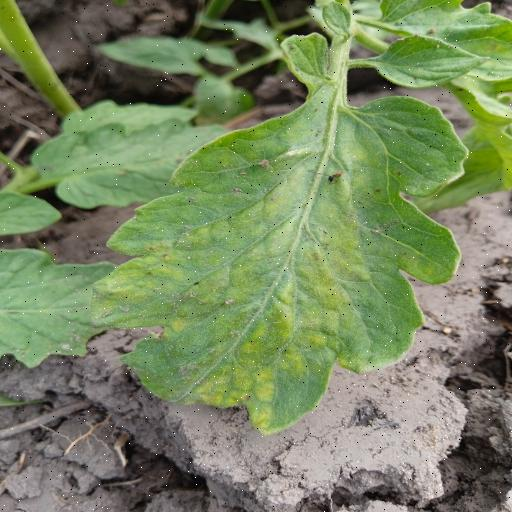Tomato_Mosaic: (83, 92, 484, 440)
